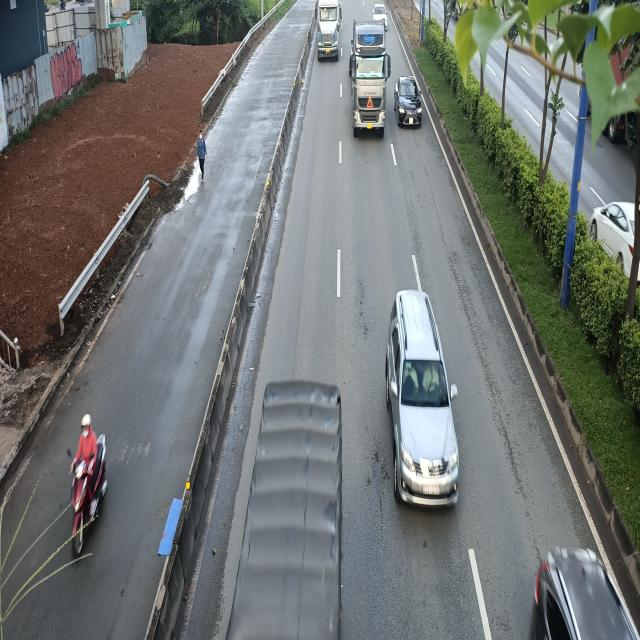car: (383, 290, 460, 512), (395, 76, 425, 130), (374, 2, 388, 26)
container: (348, 20, 389, 140), (315, 0, 343, 59)
